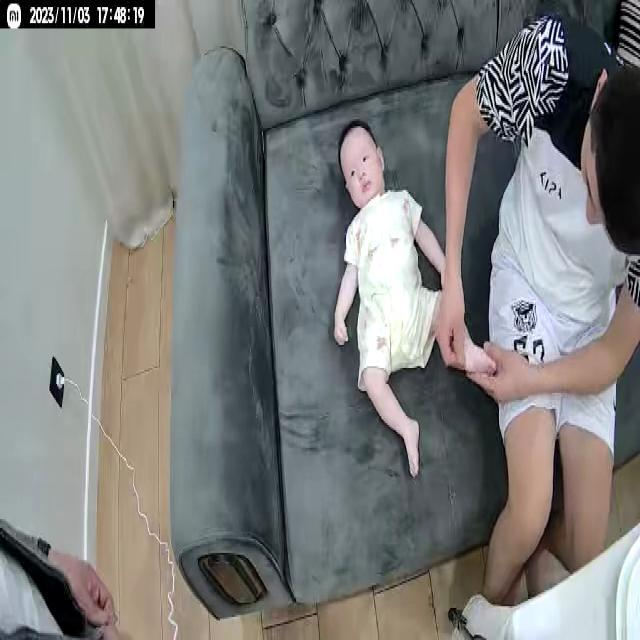baby: (330, 116, 500, 483)
